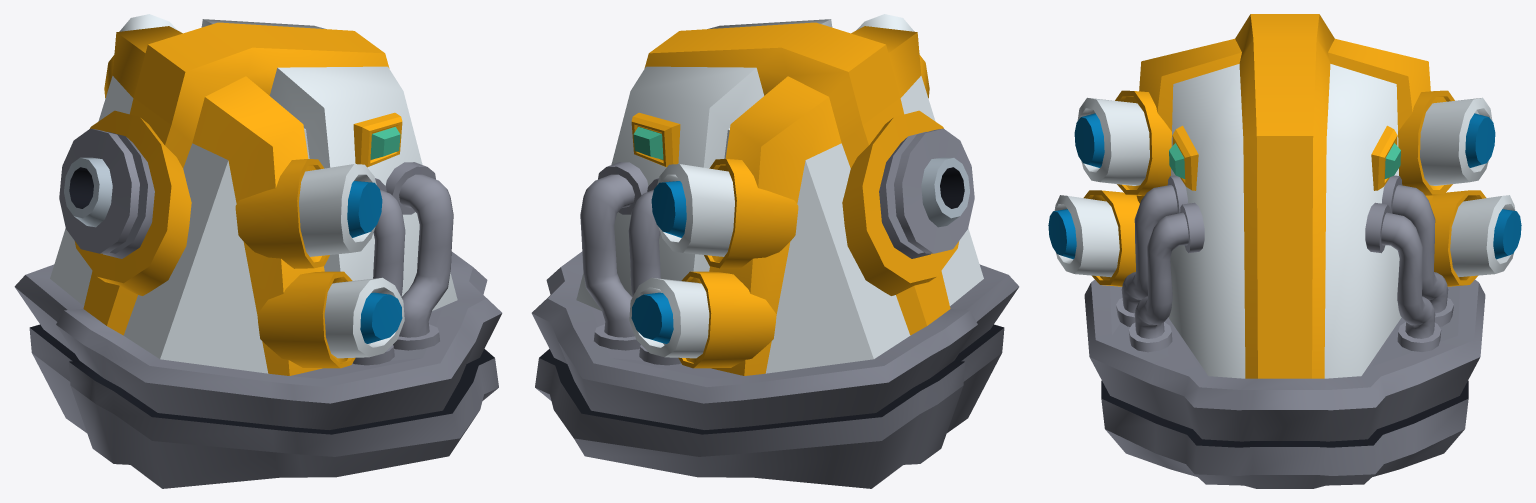
Rendered from PROP_OxigenTank_02.FBX.
3 renders of one model, left to right at view 1: azimuth 30°, elevation 25°; view 2: azimuth 150°, elevation 25°; view 3: azimuth 270°, elevation 25°, orthographic. The views are drawn at different scales.
Parts seen in each view (by area): view 1: PROP_OxigenTank_02; view 2: PROP_OxigenTank_02; view 3: PROP_OxigenTank_02.
Part boxes in pixels (left/top/right/bottom): PROP_OxigenTank_02: left=14, top=14, right=502, bottom=488; PROP_OxigenTank_02: left=531, top=14, right=1019, bottom=488; PROP_OxigenTank_02: left=1048, top=14, right=1521, bottom=488.
Size of the model in its own units: 102 by 114 by 95.1.
